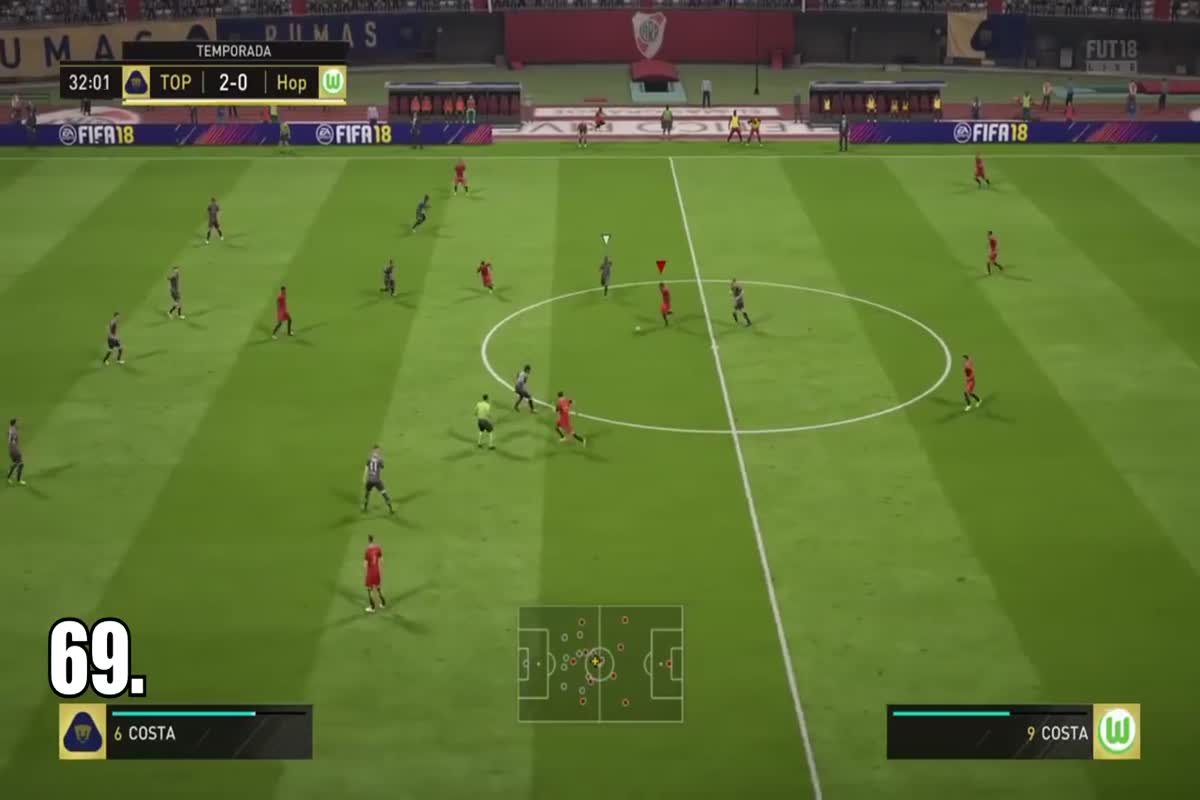ball: (628, 320, 650, 338)
